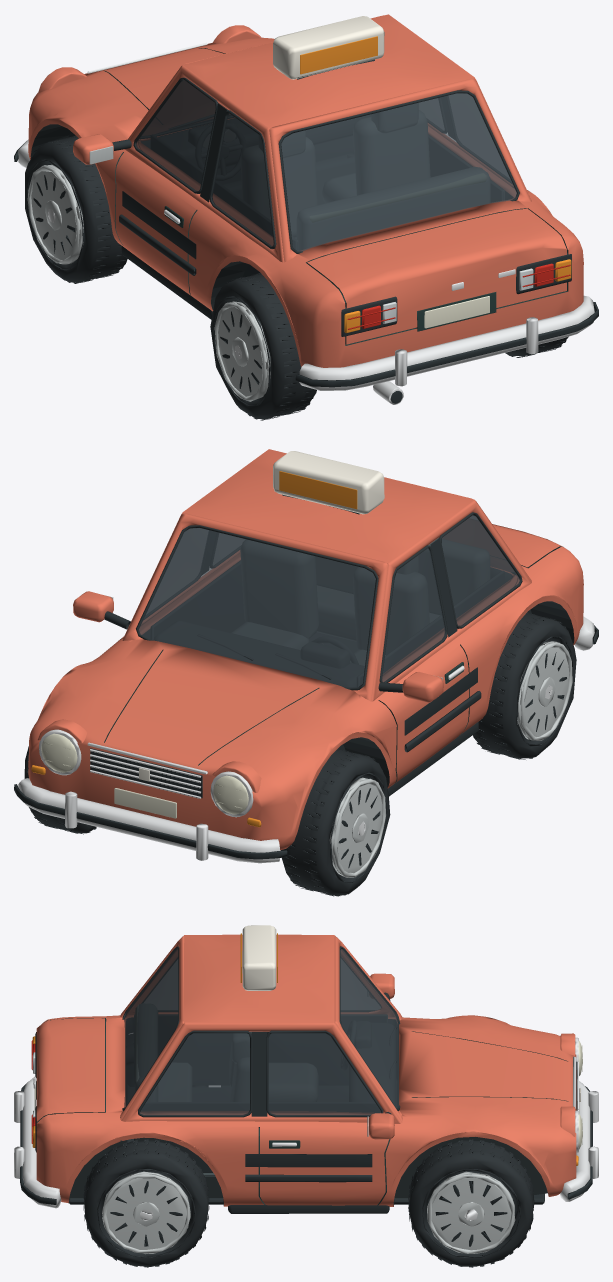
The model's file is taxi_lod2.fbx.
The picture shows the model from 3 angles, top to bottom: view 1: azimuth 30°, elevation 25°; view 2: azimuth 150°, elevation 25°; view 3: azimuth 270°, elevation 25°; orthographic projection. The views are drawn at different scales.
Parts seen in each view (by area): view 1: Body, Wheel_RL_Mesh, Wheel_FL_Mesh; view 2: Body, Wheel_FL_Mesh, Wheel_RL_Mesh, Wheel_FR_Mesh; view 3: Body, Wheel_FR_Mesh, Wheel_RR_Mesh.
Boxes of the visible parts, box(x1,y1,x2,y2) form: Body: box(14, 14, 598, 404); Wheel_RL_Mesh: box(210, 273, 316, 420); Wheel_FL_Mesh: box(25, 135, 127, 283); Body: box(14, 449, 598, 863); Wheel_FL_Mesh: box(281, 749, 390, 896); Wheel_RL_Mesh: box(473, 612, 576, 759); Wheel_FR_Mesh: box(24, 746, 96, 834); Body: box(14, 925, 598, 1213); Wheel_FR_Mesh: box(408, 1139, 534, 1267); Wheel_RR_Mesh: box(83, 1139, 209, 1267).
Bounding box in the file's own units: 231 × 184 × 373.
